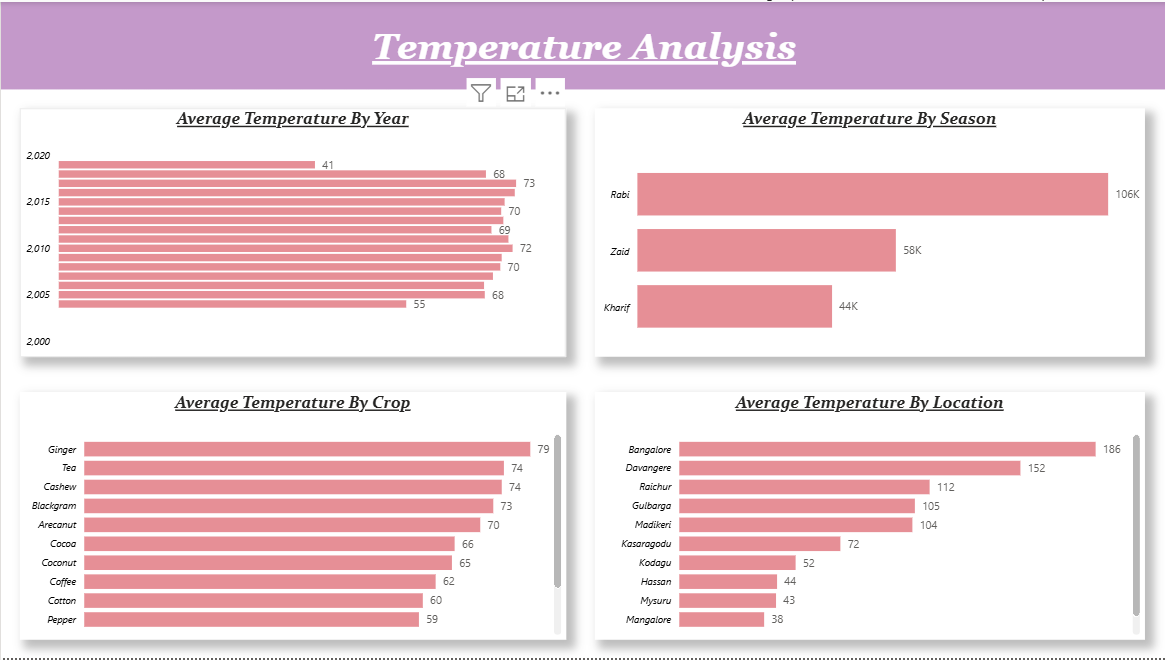

The dashboard page shown, as its layout file describes it:
{"tool":"powerbi","page":{"name":"Temperature Analysis","canvas":[1280,720],"ordinal":1},"visuals":[{"type":"shape","box":[0,0,1280.3,96.1],"z":0},{"type":"barChart","title":"Average Temperature By Year","fields":{"Category":["AGRICULTURE.YEAR"],"Y":["Avg(AGRICULTURE.TEMPERATURE)"]},"box":[20.6,116.6,599.7,273.1],"z":1000},{"type":"barChart","title":"Average Temperature By Season","fields":{"Category":["AGRICULTURE.SEASON"],"Y":["Sum(AGRICULTURE.TEMPERATURE)"]},"box":[651.8,116.6,603.8,273.1],"z":2000},{"type":"barChart","title":"Average Temperature By Crop ","fields":{"Category":["AGRICULTURE.CROPS"],"Y":["Avg(AGRICULTURE.TEMPERATURE)"]},"box":[20.6,428.1,599.7,271.7],"z":3000},{"type":"barChart","title":"Average Temperature By Location ","fields":{"Category":["AGRICULTURE.LOCATION"],"Y":["Avg(AGRICULTURE.TEMPERATURE)"]},"box":[651.8,428.1,603.8,271.7],"z":4000}]}

Visuals, with their boxes on the page's 1280x720 design canvas (x1, y1, x2, y2). These are canvas units, not pixel positions in the 1165x660 screenshot, which may show the page scaled, cropped or inside an application window:
shape: left=0, top=0, right=1280, bottom=96
"Average Temperature By Year" barChart: left=21, top=117, right=620, bottom=390
"Average Temperature By Season" barChart: left=652, top=117, right=1256, bottom=390
"Average Temperature By Crop " barChart: left=21, top=428, right=620, bottom=700
"Average Temperature By Location " barChart: left=652, top=428, right=1256, bottom=700
